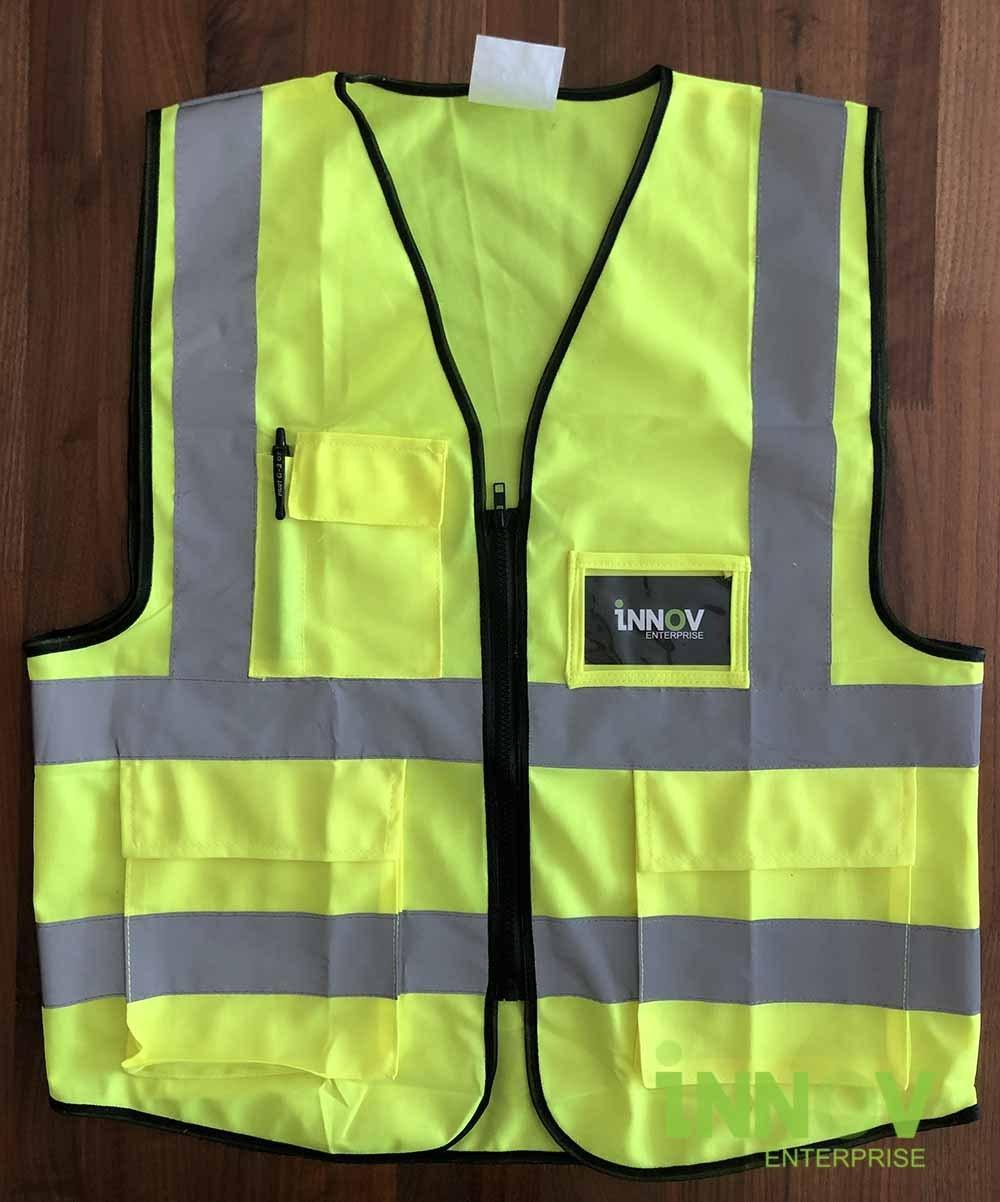vest: (20, 52, 984, 1174)
